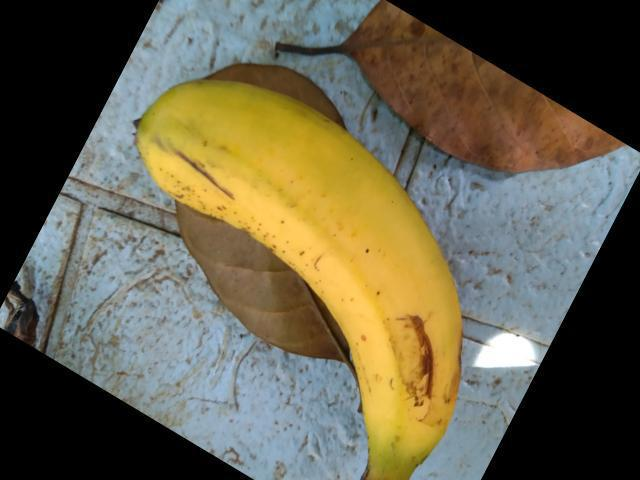ripe: (137, 78, 486, 479)
